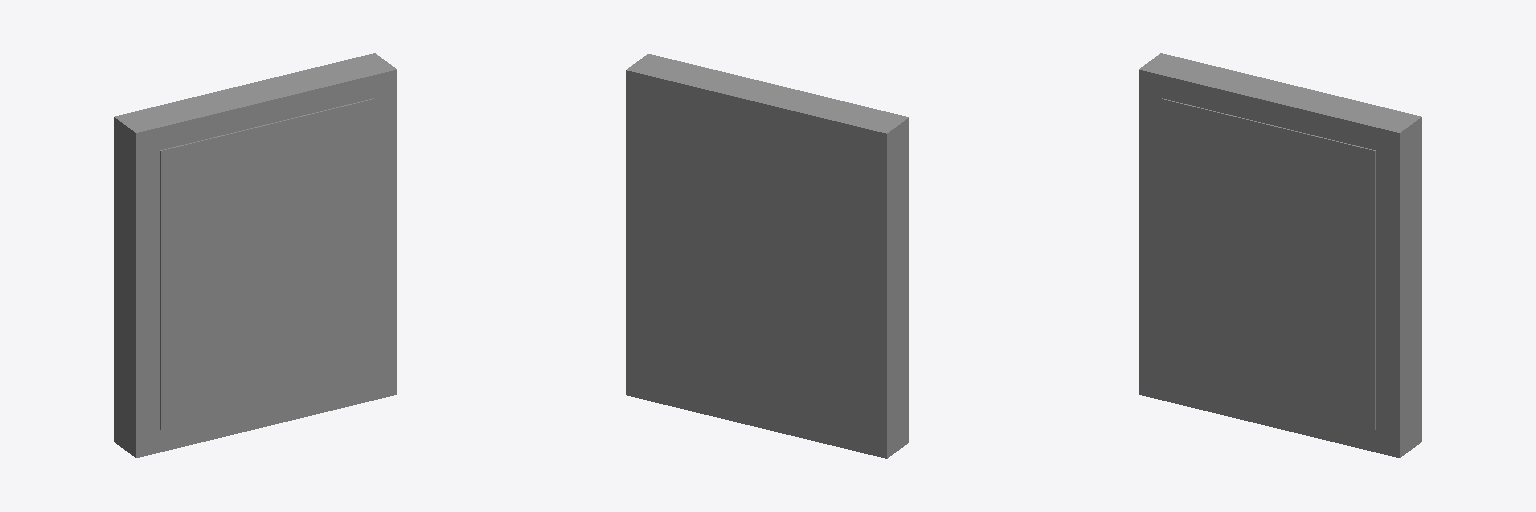
Rendered from bartpicture.obj.
The picture shows the model from 3 angles: view 1: azimuth 30°, elevation 25°; view 2: azimuth 150°, elevation 25°; view 3: azimuth 330°, elevation 25°; orthographic projection.
Visible parts, largest first — view 1: Cube.001, Cube; view 2: Cube; view 3: Cube.001, Cube.
Part boxes in pixels (left/top/right/bottom): Cube.001: left=160, top=98, right=374, bottom=429; Cube: left=114, top=53, right=396, bottom=457; Cube: left=626, top=54, right=908, bottom=458; Cube.001: left=1161, top=98, right=1375, bottom=429; Cube: left=1139, top=53, right=1421, bottom=457.
Bounding box in the file's own units: 0.5741 × 0.6832 × 0.0889.